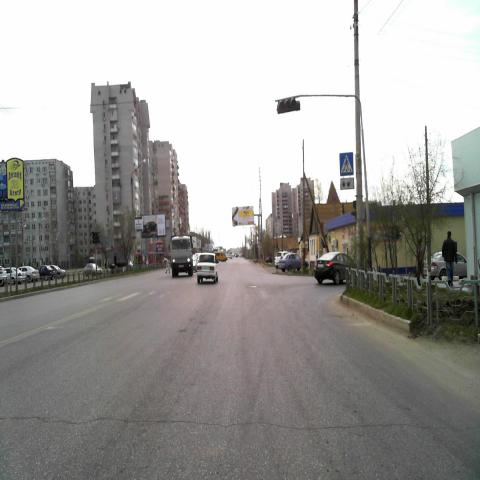8_15: (340, 177, 354, 190)
